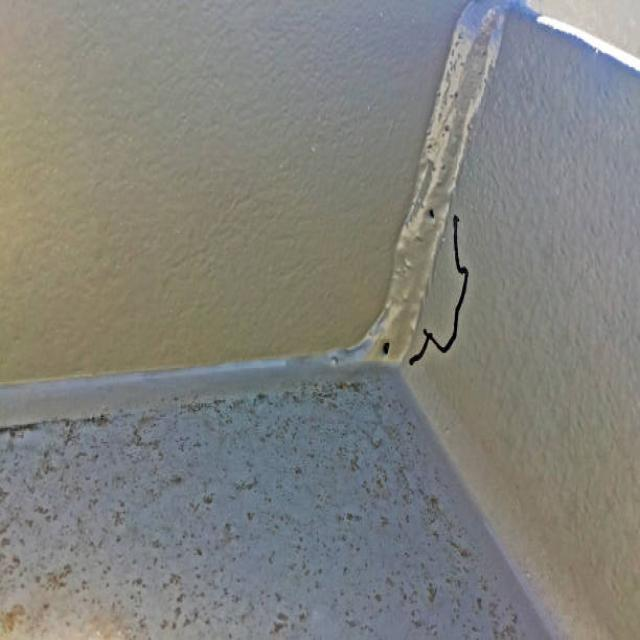Defect: (420, 202, 440, 222), (378, 336, 392, 354)
